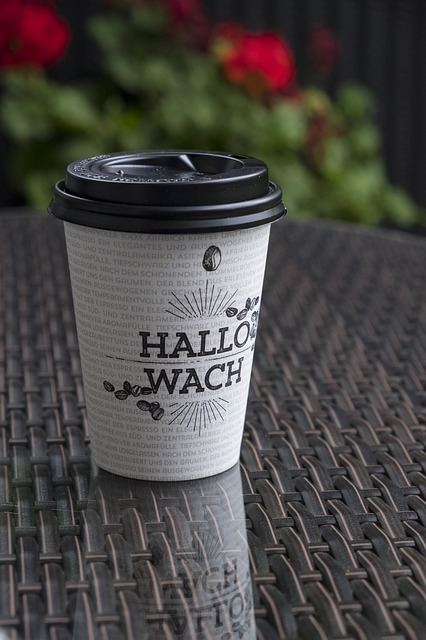cup: (46, 140, 301, 484)
